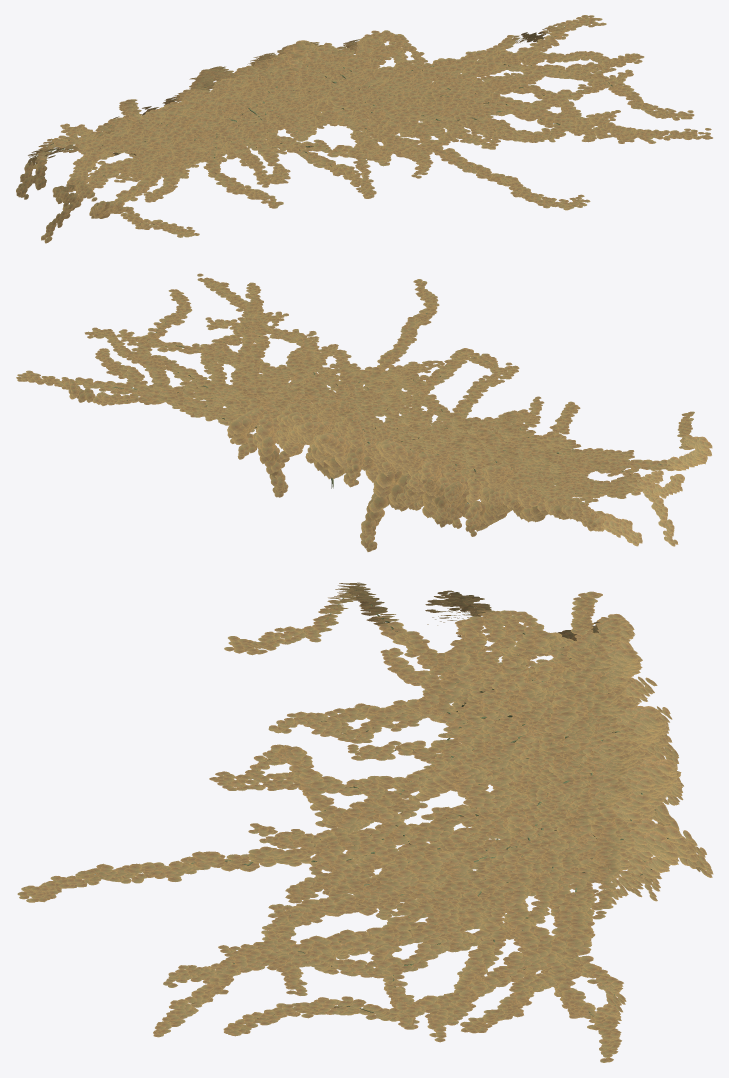
The model's file is vine_3.fbx.
The picture shows the model from 3 angles, top to bottom: view 1: azimuth 30°, elevation 25°; view 2: azimuth 150°, elevation 25°; view 3: azimuth 270°, elevation 25°; orthographic projection. The views are drawn at different scales.
Visible parts, largest first — view 1: IvyLeaf.003, IVY_Curve.003; view 2: IvyLeaf.003; view 3: IvyLeaf.003, IVY_Curve.003.
Boxes of the visible parts, left/top/right/bottom form: IvyLeaf.003: left=16, top=15, right=712, bottom=243; IVY_Curve.003: left=27, top=26, right=671, bottom=224; IvyLeaf.003: left=16, top=273, right=712, bottom=551; IvyLeaf.003: left=17, top=582, right=713, bottom=1062; IVY_Curve.003: left=59, top=588, right=668, bottom=1018.
Size of the model in its own units: 268 by 45.64 by 172.
